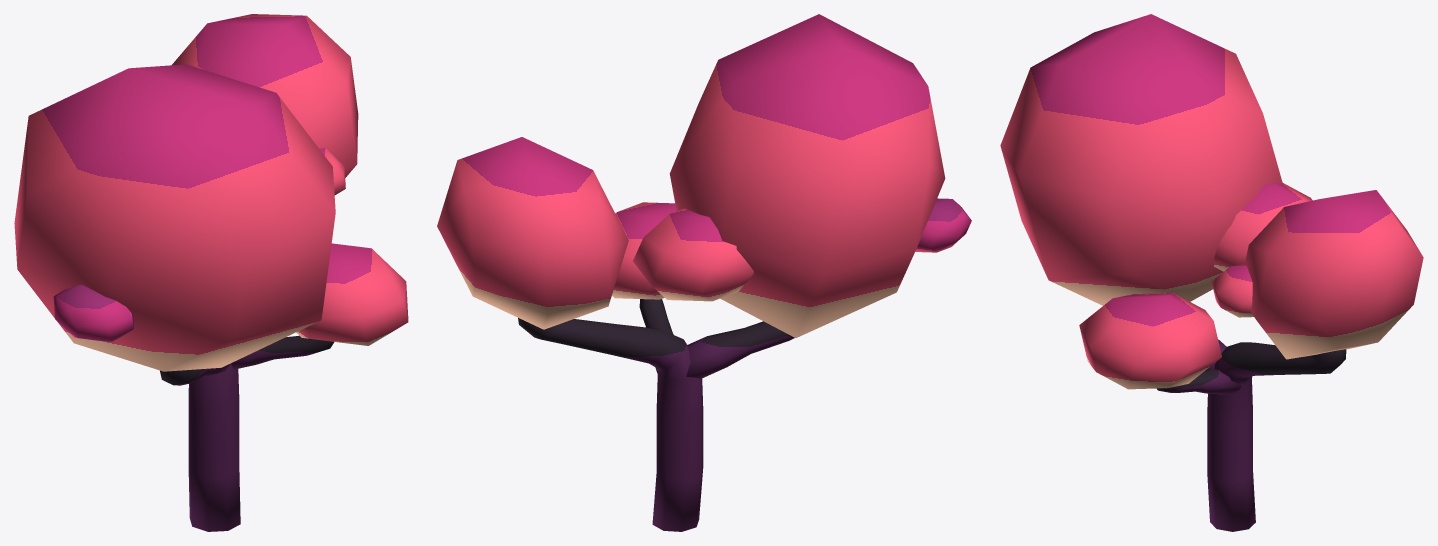
Rendered from Tree_P_1.fbx.
3 renders of one model, left to right at view 1: azimuth 30°, elevation 25°; view 2: azimuth 150°, elevation 25°; view 3: azimuth 270°, elevation 25°, orthographic. The views are drawn at different scales.
Parts seen in each view (by area): view 1: Tree04.004; view 2: Tree04.004; view 3: Tree04.004.
Boxes of the visible parts, x1,y1,x2,y2 form: Tree04.004: (14,14,408,531); Tree04.004: (437,14,971,531); Tree04.004: (1000,14,1423,531).
Size of the model in its own units: 598 by 697 by 592.
1 material, 1 textured.
